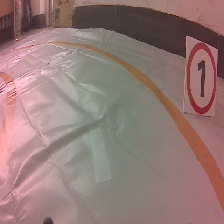limit: (184, 34, 219, 120)
